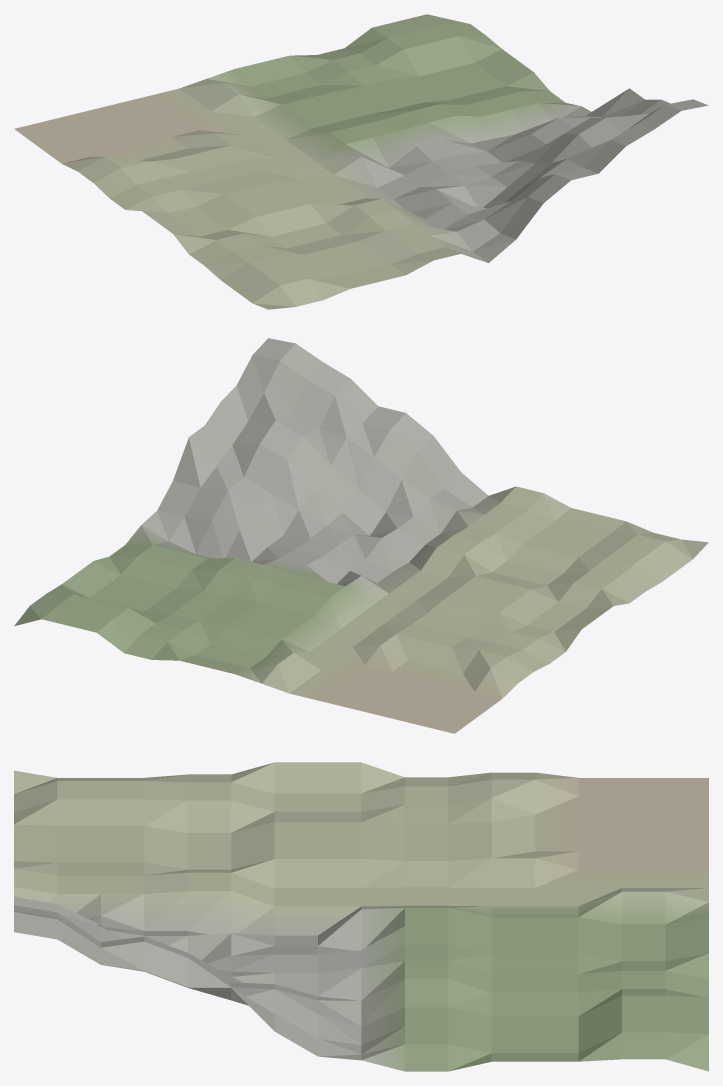
3 views of the same model, one above another, from view 1: azimuth 30°, elevation 25°; view 2: azimuth 150°, elevation 25°; view 3: azimuth 270°, elevation 25° (orthographic). The views are drawn at different scales.
Size of the model in its own units: 32 by 7.88 by 32.
